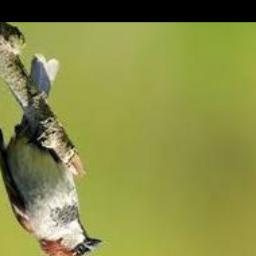Sparrow: (0, 54, 101, 256)
